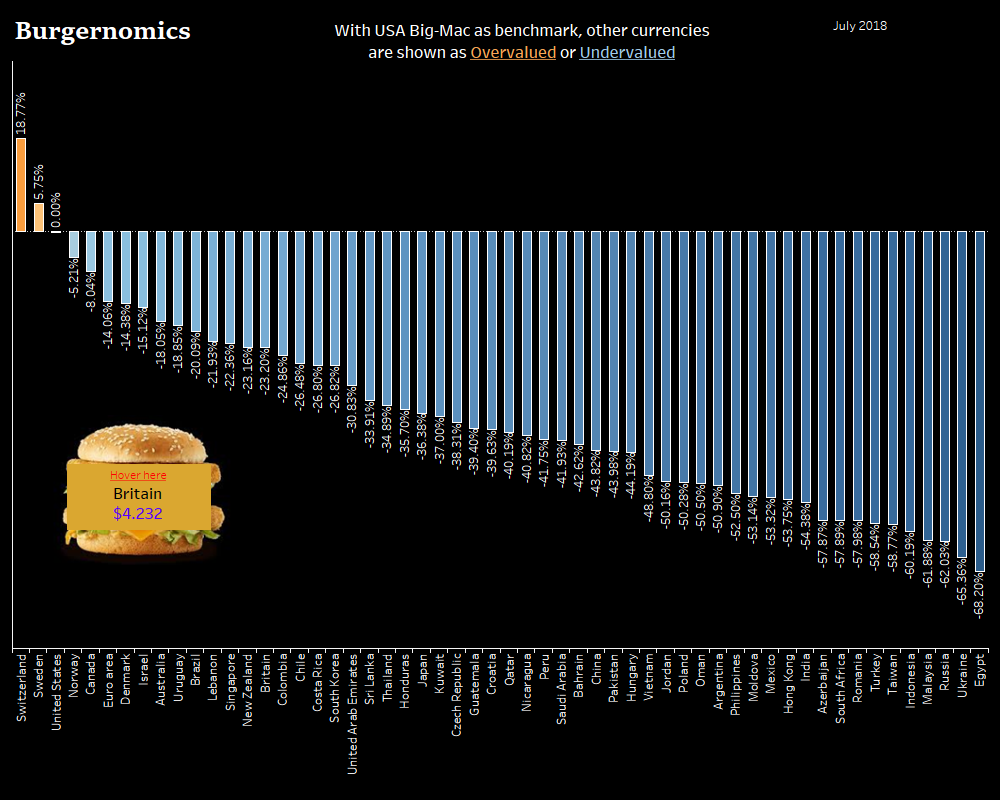

The page's visual inventory and layout, read from the dashboard file:
{"tool":"tableau","page":{"name":"Dashboard 1","canvas":[1000,800],"ordinal":0},"visuals":[{"type":"title","box":[8,8,984,49]},{"type":"text","box":[330,16,384,50]},{"type":"parameter","param":"[Parameters].[Date Parameter]","box":[831,17,160,30]},{"type":"worksheet","title":"Currencies-Overvalued and Undervalued  wrt USD","mark":"Bar","rows":["dollar_price"],"cols":["name"],"box":[8,57,984,735]},{"type":"image","param":"C:/Users/Shreyansh/Documents/My Tableau Repository/Workbooks/bigmac.PNG","box":[49,415,185,160]},{"type":"worksheet","title":"Summary","mark":"Automatic","box":[67,464,143,65]}]}

Visuals, with their boxes in screenshot pixels (x1, y1, x2, y2), scaled from the page's 1000x800 canvas onto the 1000x800 screenshot:
title: 8,8,992,57
text: 330,16,714,66
parameter: 831,17,991,47
"Currencies-Overvalued and Undervalued  wrt USD" worksheet (Bar marks): 8,57,992,792
image: 49,415,234,575
"Summary" worksheet: 67,464,210,529
